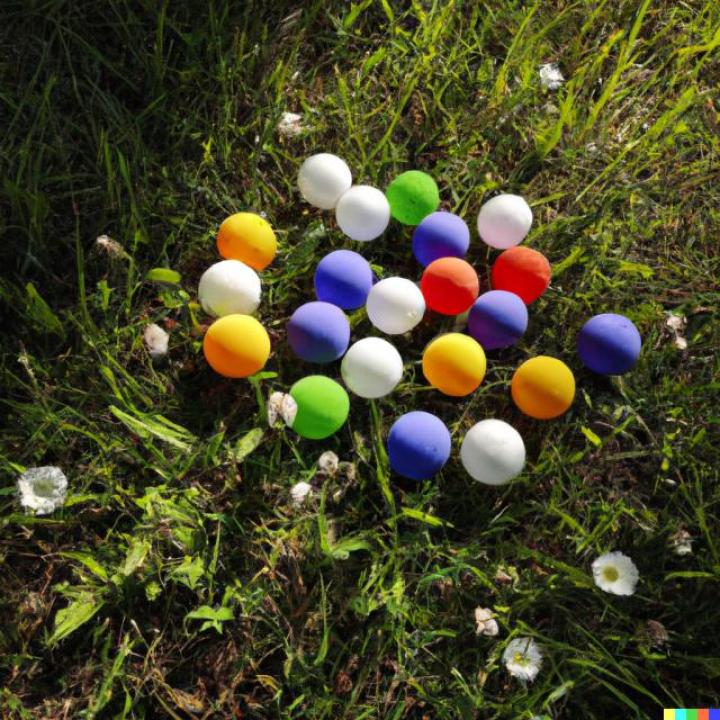orange: (204, 314, 270, 379), (423, 334, 487, 397), (512, 356, 576, 418), (218, 212, 276, 270)
white: (463, 420, 525, 484), (341, 336, 404, 398), (196, 259, 261, 319), (478, 190, 534, 252), (367, 277, 424, 333), (300, 153, 354, 207)
